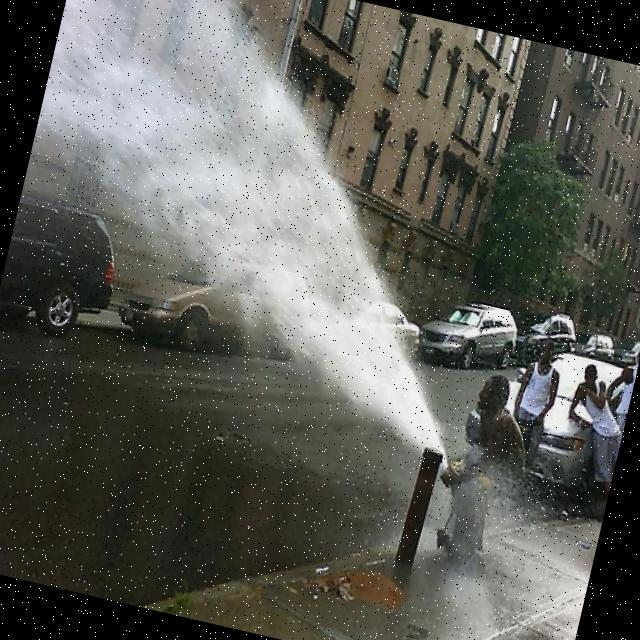fire_hydrant: (430, 463, 500, 569)
